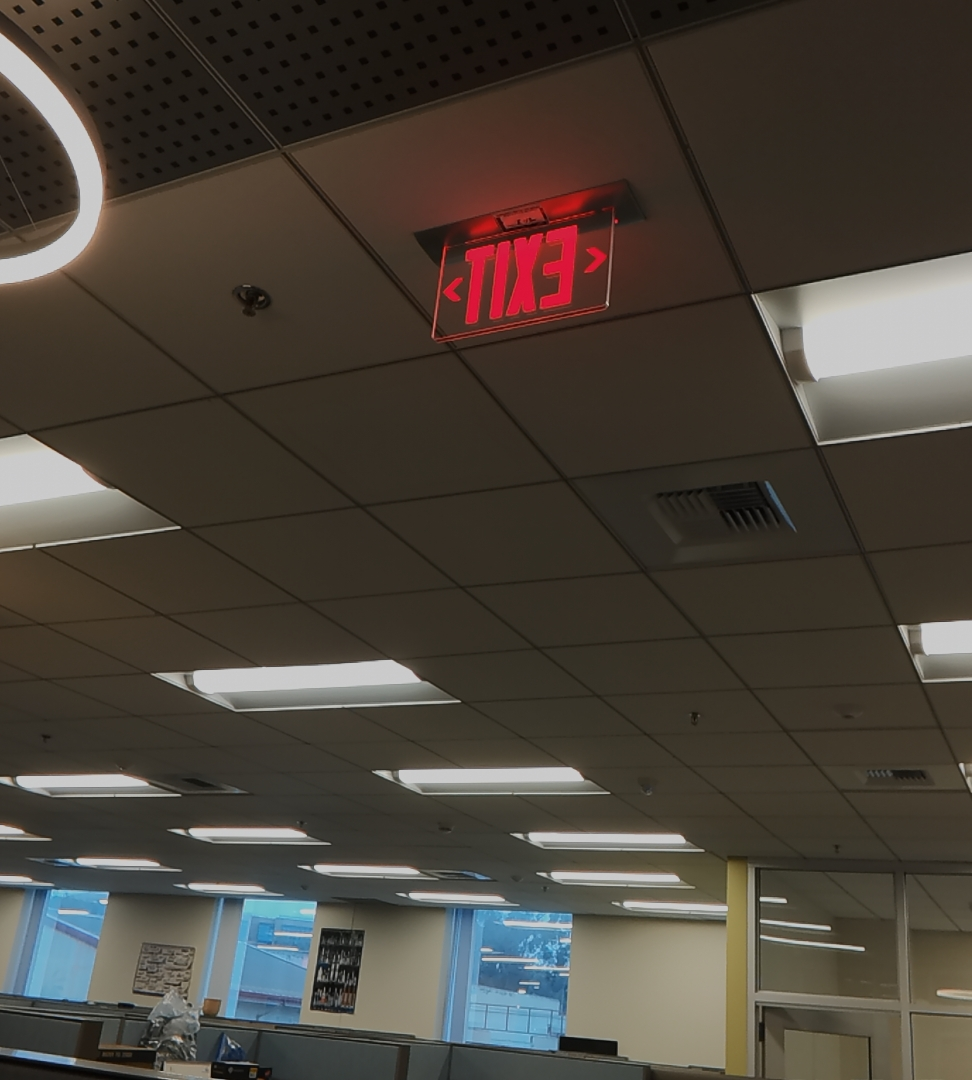emergency_exit: (426, 200, 621, 346)
